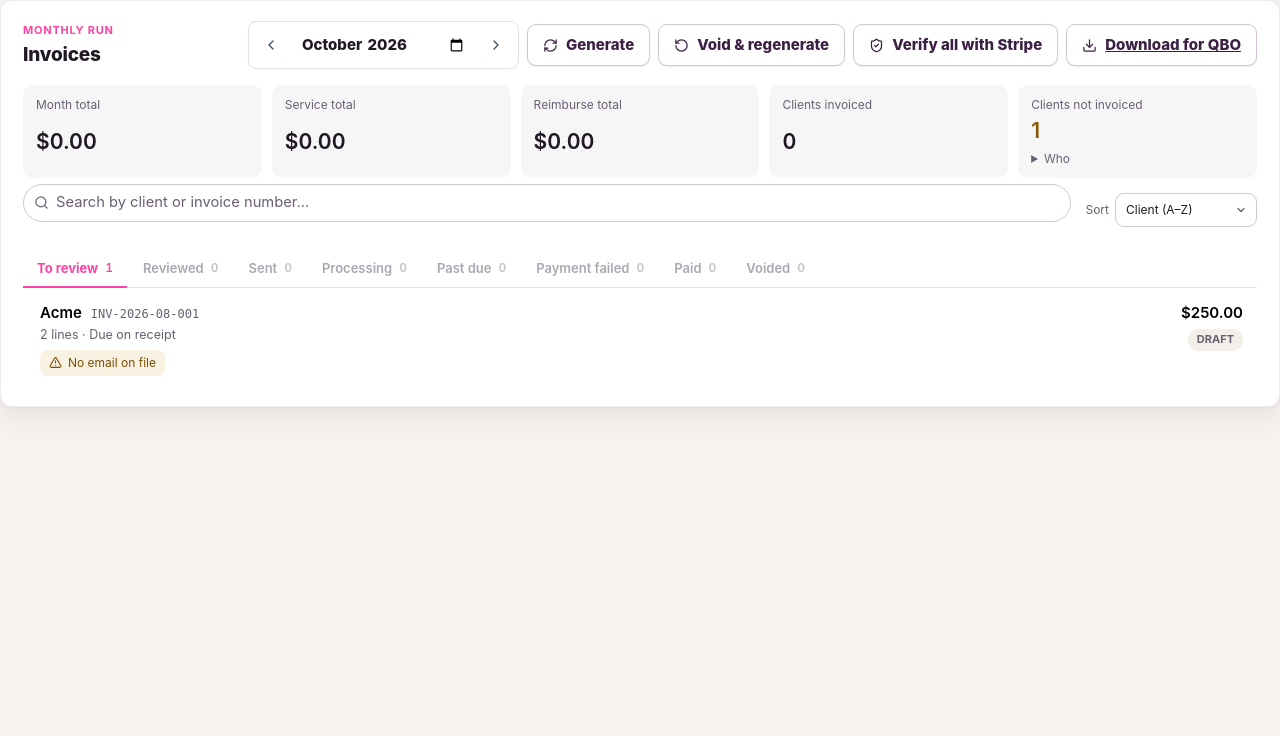
InvoiceMonthRun — the ad hoc block › offers all three decisions, starting on "Invoice it"
The image size is (1280, 736).
Click the text "INV-2026-08-001": click(145, 315) [91, 306, 199, 324]
(page scrolled)
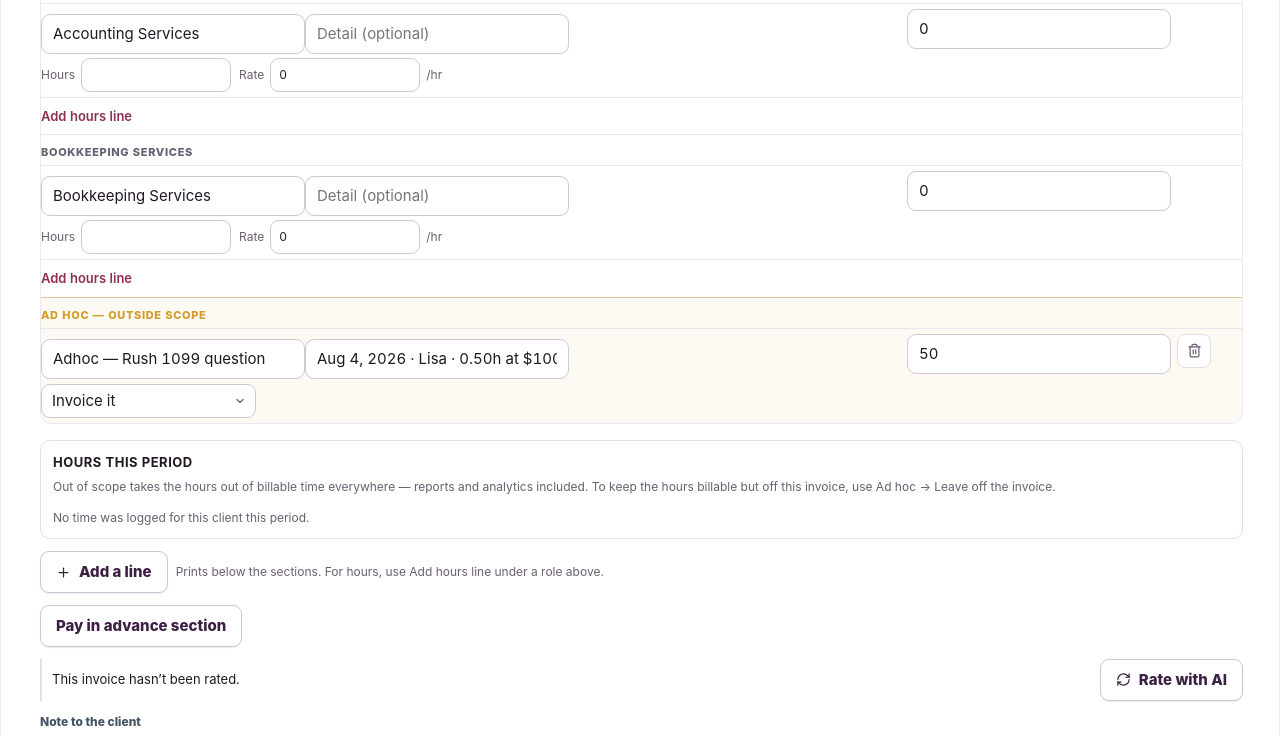
expect the dropdown named "What to do with this ad hoc work" shows "Invoice it": met, box [41, 384, 256, 418]
